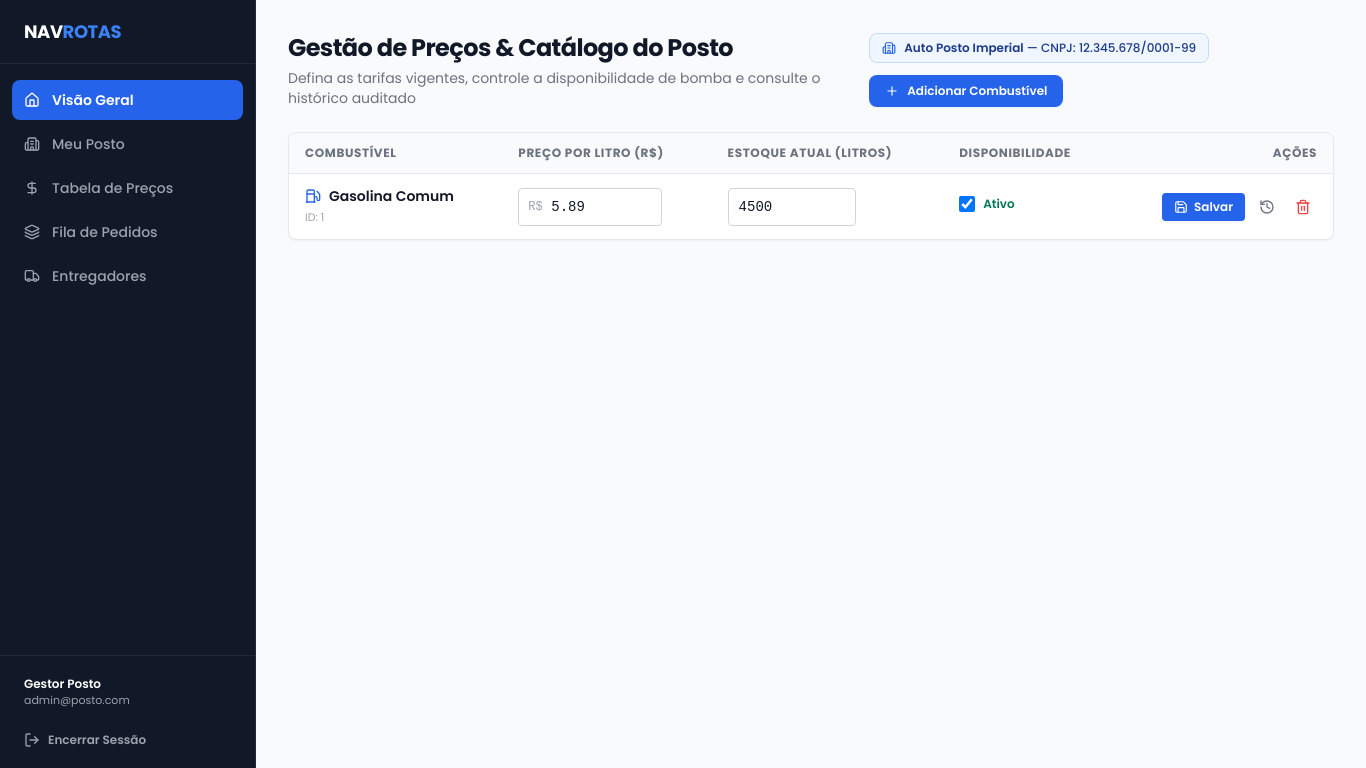
PostoCatalogoPage › abre modal de confirmação e remove combustível com DELETE ao confirmar
Later steps or results of the test are not shown.
Expected: the text "Gasolina Comum" is shown, [329,186,454,206]
Step 1. Click the button named "Remover combustível" → point(1303, 206), box [1289,192,1317,220]
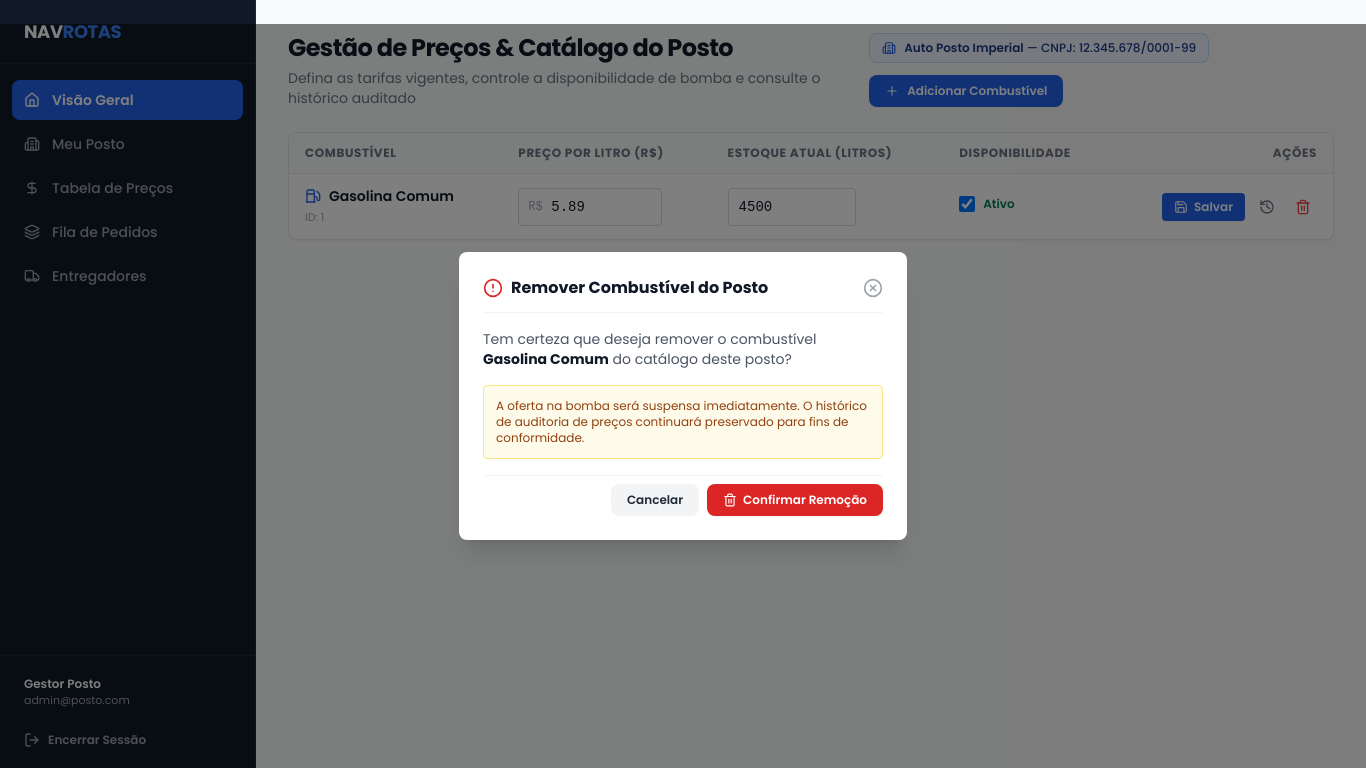
Now the heading "Remover Combustível do Posto" is shown, box [511,276,768,300]
Now the text "A oferta na bomba será suspensa imediatamente" is shown, box [496,397,867,446]
